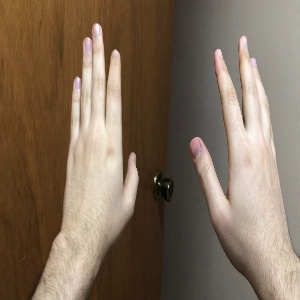hand: (189, 37, 292, 251), (63, 23, 138, 232)
